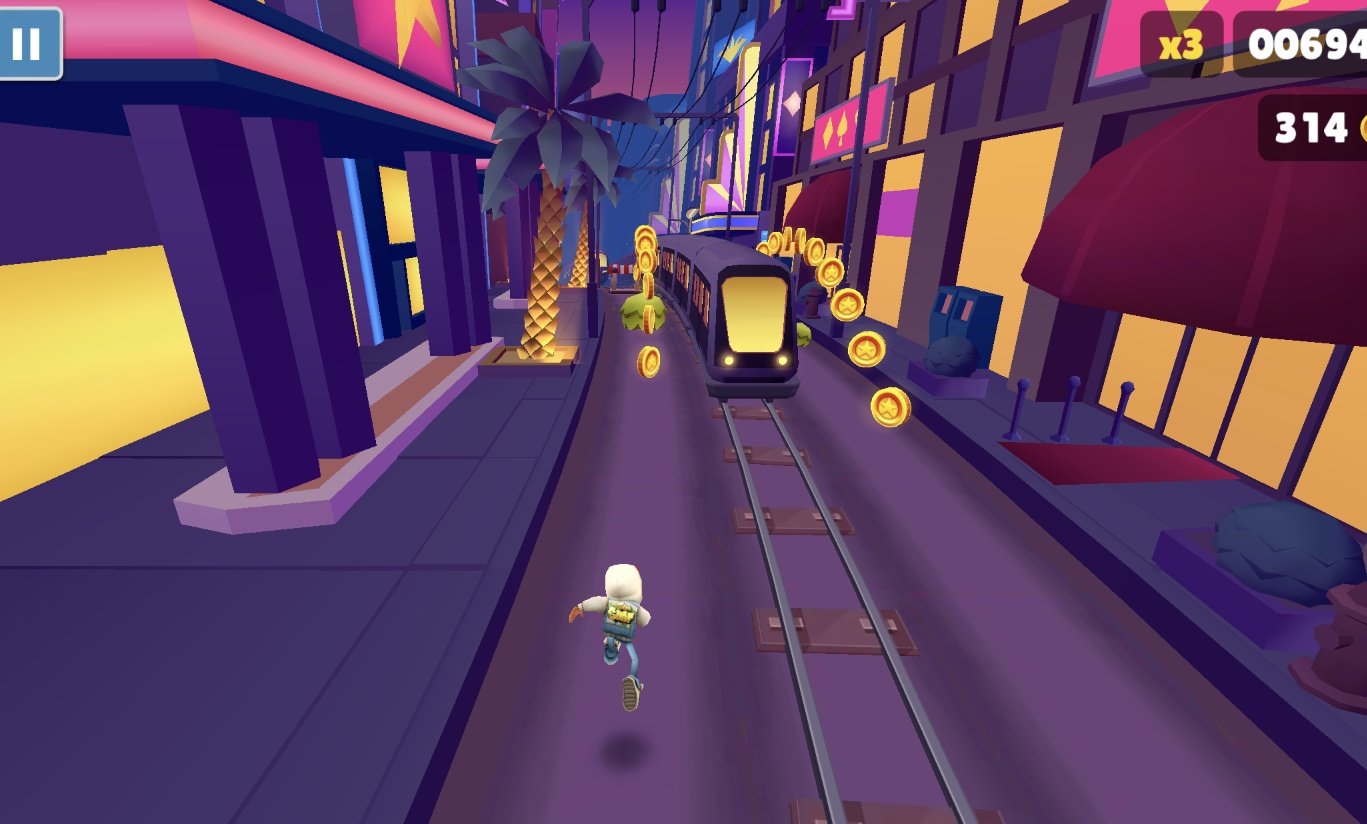bush: (619, 295, 668, 335), (796, 323, 812, 349)
ground_barrier: (604, 262, 636, 292)
train: (650, 233, 801, 402), (593, 245, 614, 282)
